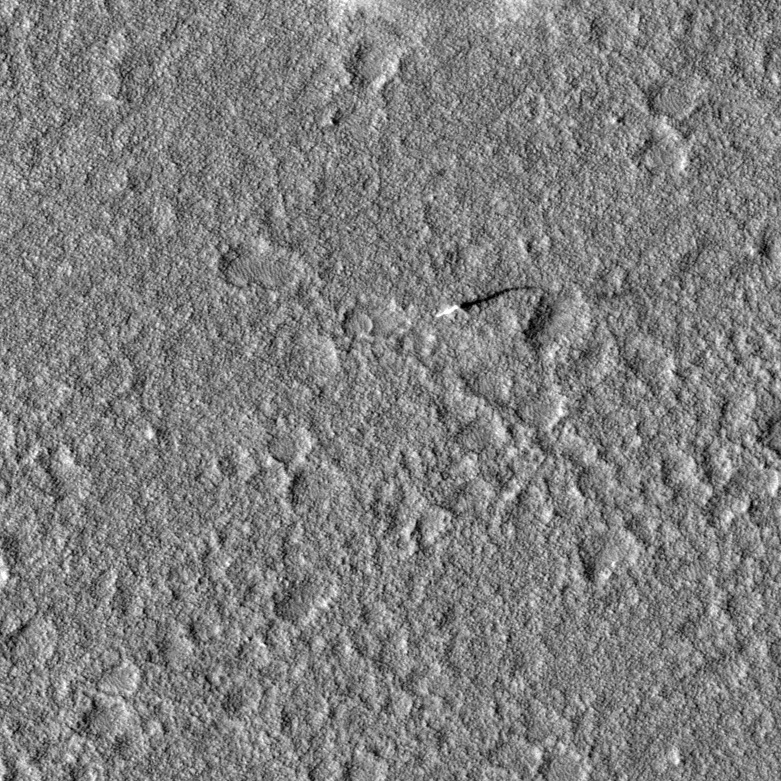dust_devil: (434, 283, 538, 319)
